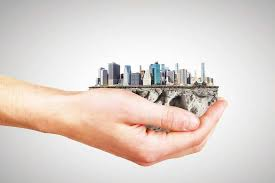hand: (60, 79, 255, 166)
